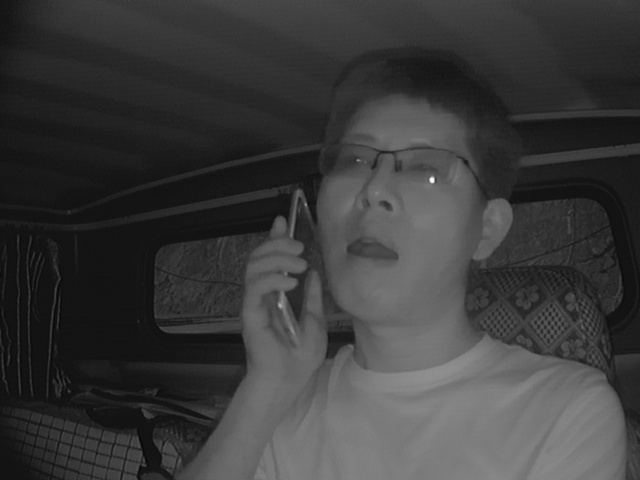hand: (231, 217, 331, 375)
